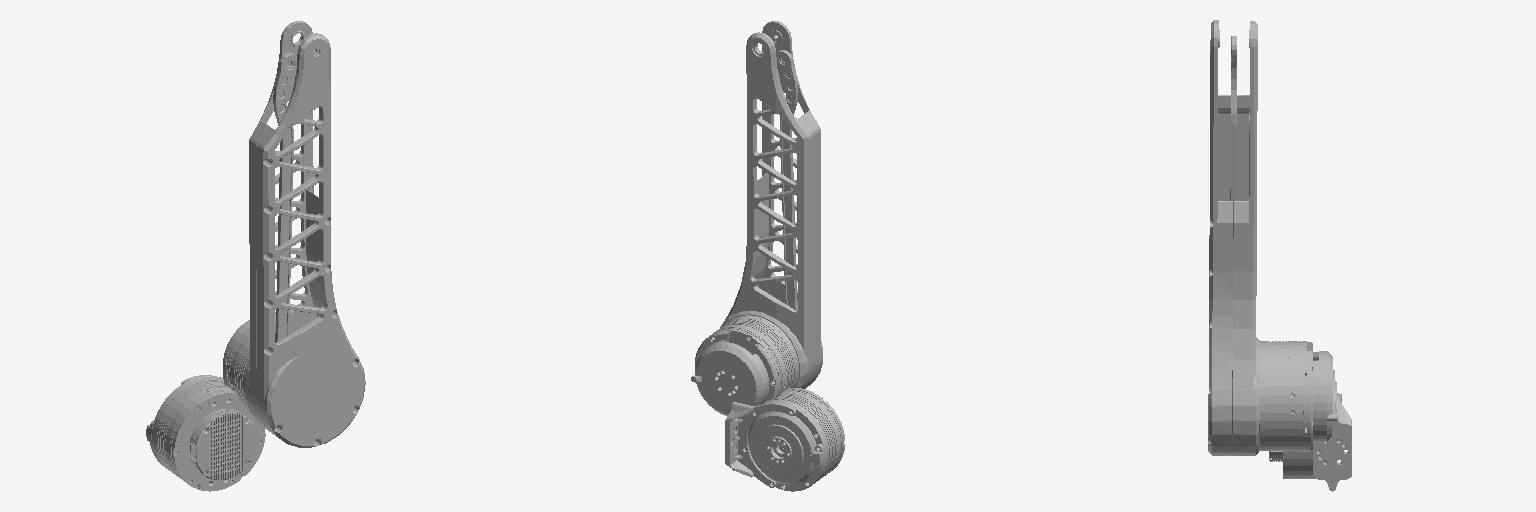
The robot description file, URDF, robot "URDF":
<?xml version="1.0" encoding="utf-8"?>
<!-- This URDF was automatically created by SolidWorks to URDF Exporter! Originally created by [author] ([email redacted]) 
     Commit Version: 1.6.0-4-g7f85cfe  Build Version: 1.6.7995.38578
     For more information, please see http://wiki.ros.org/sw_urdf_exporter -->
<robot
  name="URDF">
  <link
    name="Base_link">
    <inertial>
      <origin
        xyz="0.12824 0.038225 0.045584"
        rpy="0 0 0" />
      <mass
        value="2.20928" />
      <inertia
        ixx="0.0080598"
        ixy="-5.7974E-06"
        ixz="-2.1256E-06"
        iyy="0.0039704"
        iyz="2.6662E-05"
        izz="0.0055375" />
    </inertial>
    <visual>
      <origin
        xyz="0 0 0"
        rpy="0 0 0" />
      <geometry>
        <mesh
          filename="package://URDF/meshes/Base_link.STL" />
      </geometry>
      <material
        name="">
        <color
          rgba="0.75294 0.75294 0.75294 1" />
      </material>
    </visual>
    <collision>
      <origin
        xyz="0 0 0"
        rpy="0 0 0" />
      <geometry>
        <mesh
          filename="package://URDF/meshes/Base_link.STL" />
      </geometry>
    </collision>
  </link>
  <link
    name="Hip_link">
    <inertial>
      <origin
        xyz="0.00034503 -0.013108 0.044177"
        rpy="0 0 0" />
      <mass
        value="1.008" />
      <inertia
        ixx="8.916E-05"
        ixy="-6.9168E-08"
        ixz="-4.6352E-06"
        iyy="0.00018713"
        iyz="-3.0023E-08"
        izz="0.00011382" />
    </inertial>
    <visual>
      <origin
        xyz="0 0 0"
        rpy="0 0 0" />
      <geometry>
        <mesh
          filename="package://URDF/meshes/Hip_link.STL" />
      </geometry>
      <material
        name="">
        <color
          rgba="0.75294 0.75294 0.75294 1" />
      </material>
    </visual>
    <collision>
      <origin
        xyz="0 0 0"
        rpy="0 0 0" />
      <geometry>
        <mesh
          filename="package://URDF/meshes/Hip_link.STL" />
      </geometry>
    </collision>
  </link>
  <joint
    name="Hip_joint"
    type="revolute">
    <origin
      xyz="0 0 0"
      rpy="0 0 0" />
    <parent
      link="Base_link" />
    <child
      link="Hip_link" />
    <axis
      xyz="0 0 -1" />
    <limit
      lower="0.1309"
      upper="3.0107"
      effort="0"
      velocity="0" />
  </joint>
  <link
    name="Thigh_link">
    <inertial>
      <origin
        xyz="-0.091961 0.075591 0.0076548"
        rpy="0 0 0" />
      <mass
        value="2.0083" />
      <inertia
        ixx="0.00082748"
        ixy="1.7039E-05"
        ixz="0.00024101"
        iyy="0.012827"
        iyz="1.1342E-06"
        izz="0.012075" />
    </inertial>
    <visual>
      <origin
        xyz="0 0 0"
        rpy="0 0 0" />
      <geometry>
        <mesh
          filename="package://URDF/meshes/Thigh_link.STL" />
      </geometry>
      <material
        name="">
        <color
          rgba="0.75294 0.75294 0.75294 1" />
      </material>
    </visual>
    <collision>
      <origin
        xyz="0 0 0"
        rpy="0 0 0" />
      <geometry>
        <mesh
          filename="package://URDF/meshes/Thigh_link.STL" />
      </geometry>
    </collision>
  </link>
  <joint
    name="Thigh_joint"
    type="revolute">
    <origin
      xyz="0 0.0082 0.058"
      rpy="0 0 0" />
    <parent
      link="Hip_link" />
    <child
      link="Thigh_link" />
    <axis
      xyz="0 -1 0" />
    <limit
      lower="0.1571"
      upper="6.1359"
      effort="0"
      velocity="0" />
  </joint>
  <link
    name="Calf_link">
    <inertial>
      <origin
        xyz="-0.15293 -0.00023583 -0.011724"
        rpy="0 0 0" />
      <mass
        value="0.53382" />
      <inertia
        ixx="0.00016402"
        ixy="-3.6853E-10"
        ixz="-0.00042607"
        iyy="0.0076992"
        iyz="2.8095E-10"
        izz="0.0075849" />
    </inertial>
    <visual>
      <origin
        xyz="0 0 0"
        rpy="0 0 0" />
      <geometry>
        <mesh
          filename="package://URDF/meshes/Calf_link.STL" />
      </geometry>
      <material
        name="">
        <color
          rgba="0.75294 0.75294 0.75294 1" />
      </material>
    </visual>
    <collision>
      <origin
        xyz="0 0 0"
        rpy="0 0 0" />
      <geometry>
        <mesh
          filename="package://URDF/meshes/Calf_link.STL" />
      </geometry>
    </collision>
  </link>
  <joint
    name="Calf_joint"
    type="revolute">
    <origin
      xyz="-0.35 0.089 0"
      rpy="0 0 0" />
    <parent
      link="Thigh_link" />
    <child
      link="Calf_link" />
    <axis
      xyz="0 -1 0" />
    <limit
      lower="0.3801"
      upper="2.5831"
      effort="0"
      velocity="0" />
  </joint>
  <link
    name="Foot">
    <inertial>
      <origin
        xyz="0.19707 -0.00023583 -0.011724"
        rpy="0 0 0" />
      <mass
        value="0.53382" />
      <inertia
        ixx="0.00016402"
        ixy="-3.6853E-10"
        ixz="-0.00042607"
        iyy="0.0076992"
        iyz="2.8095E-10"
        izz="0.0075849" />
    </inertial>
    <visual>
      <origin
        xyz="0 0 0"
        rpy="0 0 0" />
      <geometry>
        <mesh
          filename="package://URDF/meshes/Foot.STL" />
      </geometry>
      <material
        name="">
        <color
          rgba="0.75294 0.75294 0.75294 1" />
      </material>
    </visual>
    <collision>
      <origin
        xyz="0 0 0"
        rpy="0 0 0" />
      <geometry>
        <mesh
          filename="package://URDF/meshes/Foot.STL" />
      </geometry>
    </collision>
  </link>
  <joint
    name="Foot_point"
    type="fixed">
    <origin
      xyz="-0.35 0 0"
      rpy="0 0 0" />
    <parent
      link="Calf_link" />
    <child
      link="Foot" />
    <axis
      xyz="0 0 0" />
  </joint>
</robot>

--- Facts derived from the render (not from the file) ---
The picture shows the robot from 3 angles, left to right: view 1: azimuth 30°, elevation 25°; view 2: azimuth 150°, elevation 25°; view 3: azimuth 270°, elevation 25°; orthographic projection.
Robot: URDF — 5 links, 4 joints (3 revolute, 1 fixed); root link Base_link; default pose: joints at zero except 3 at the middle of their limits (Hip_joint = 1.57, Thigh_joint = 3.15, Calf_joint = 1.48).
Visible links, largest first — view 1: Thigh_link, Hip_link; view 2: Thigh_link, Hip_link; view 3: Thigh_link, Hip_link.
Link boxes in pixels (x1,y1,x2,y2): Thigh_link: (223, 21, 365, 447); Hip_link: (146, 375, 265, 491); Thigh_link: (691, 21, 822, 415); Hip_link: (725, 388, 844, 491); Thigh_link: (1208, 20, 1336, 455); Hip_link: (1269, 370, 1351, 491).
Bounding box of the posed robot: 0.1682 × 0.1272 × 0.4736 m (x, y, z).
Meshes: 5 distinct files referenced, 2 mesh visuals loaded (2 binary STL); not drawn: 3 (reference not matched to a file when rendering).